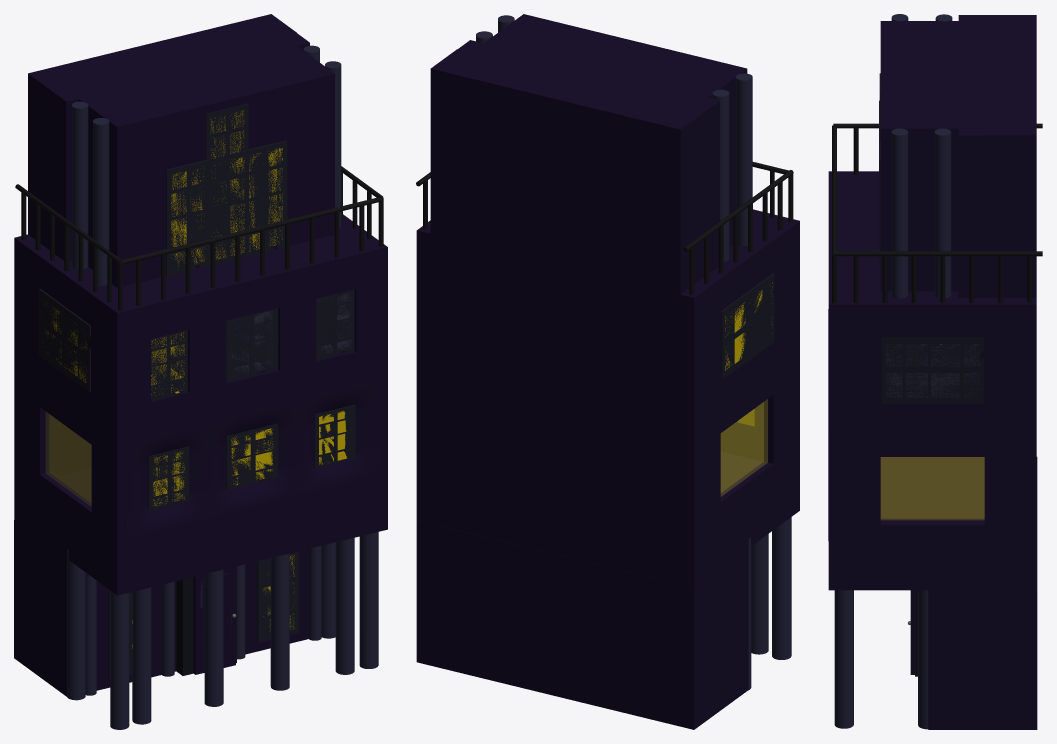
File: Gebäude_BF1.fbx
3 renders of one model, left to right at view 1: azimuth 30°, elevation 25°; view 2: azimuth 150°, elevation 25°; view 3: azimuth 270°, elevation 25°, orthographic. The views are drawn at different scales.
Parts seen in each view (by area): view 1: Gebäudekorpus, Blendfassade, Fenster11, Fenster12, Fenster10, Fenster9, Fenster7, Fenster4, FensterL, pCylinder5, SäuleL_außen2, SäuleM2 (+21 smaller); view 2: Gebäudekorpus, Fenster9, FensterL, pCylinder5, pCylinder17, SäuleL_außen2, pCylinder4, Blendfassade, pCylinder45; view 3: Gebäudekorpus, Fenster8, FensterR, pCylinder2, pCylinder1, SäuleR_außen1, SäuleR_innen1, pCylinder46, pCylinder44, Haustür.
Part boxes in pixels (<box>): Gebäudekorpus: <box>14,14,387,696</box>; Blendfassade: <box>125,379,383,549</box>; Fenster11: <box>244,140,287,257</box>; Fenster12: <box>166,160,209,276</box>; Fenster10: <box>206,151,248,266</box>; Fenster9: <box>38,288,90,392</box>; Fenster7: <box>226,308,278,381</box>; Fenster4: <box>225,423,278,490</box>; FensterL: <box>46,412,91,506</box>; pCylinder5: <box>110,591,129,729</box>; SäuleL_außen2: <box>132,587,151,724</box>; SäuleM2: <box>270,553,289,690</box>; Gebäudekorpus: <box>416,14,799,729</box>; Fenster9: <box>721,273,774,379</box>; FensterL: <box>720,399,767,496</box>; pCylinder5: <box>772,517,791,659</box>; pCylinder17: <box>736,73,752,245</box>; SäuleL_außen2: <box>751,534,768,654</box>; pCylinder4: <box>712,89,729,261</box>; Blendfassade: <box>721,405,759,460</box>; pCylinder45: <box>683,170,793,252</box>; Gebäudekorpus: <box>828,15,1037,729</box>; Fenster8: <box>881,337,984,404</box>; FensterR: <box>880,457,984,519</box>; pCylinder2: <box>891,128,908,298</box>; pCylinder1: <box>934,128,951,298</box>; SäuleR_außen1: <box>834,590,853,728</box>; SäuleR_innen1: <box>918,590,928,729</box>; pCylinder46: <box>833,251,1042,256</box>; pCylinder44: <box>832,125,836,256</box>; Haustür: <box>910,590,914,674</box>.
Bounding box in the file's own units: 10.98 × 22.43 × 7.4.
